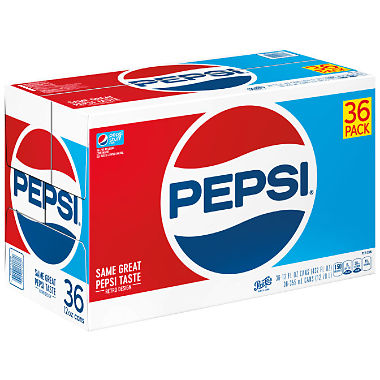pepsi: (172, 104, 310, 271), (175, 104, 310, 271), (6, 123, 80, 268), (8, 123, 80, 268), (122, 61, 253, 87)
